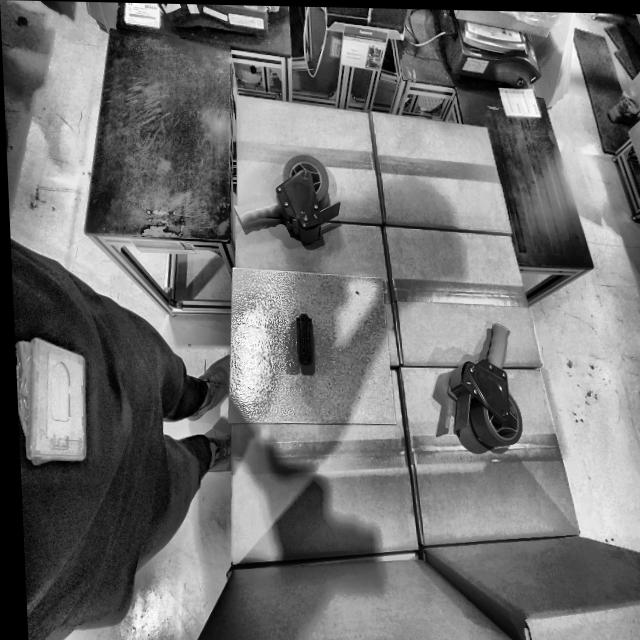P38: (293, 313, 310, 364)
